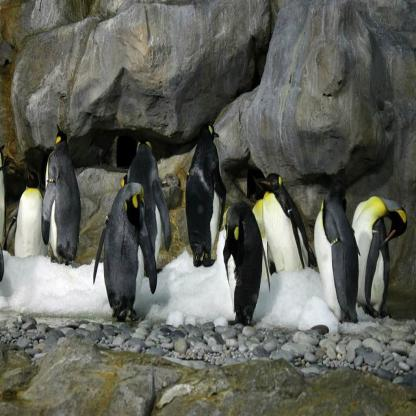Penguin: (95, 174, 169, 323), (36, 112, 89, 279), (111, 139, 174, 279), (306, 190, 358, 340), (184, 114, 232, 266), (354, 190, 408, 318), (221, 207, 271, 322), (261, 176, 313, 275), (6, 178, 56, 277)
